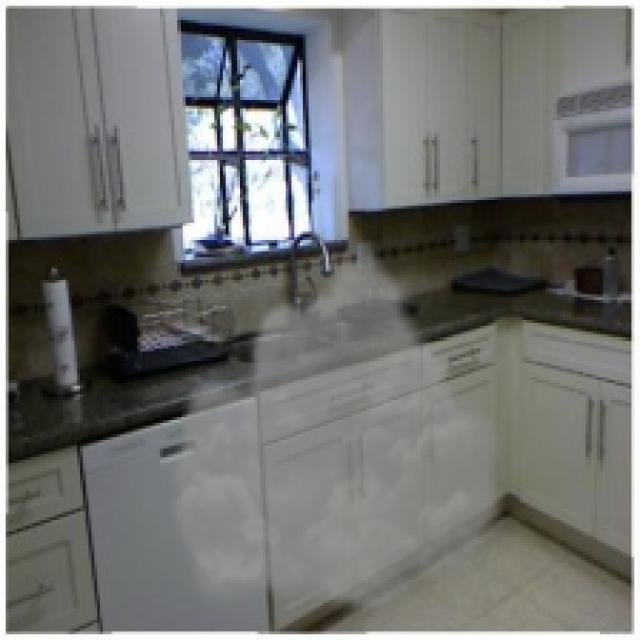Smoke: (162, 245, 514, 618)
